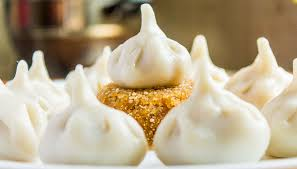modak: (27, 63, 150, 169), (145, 78, 269, 169), (106, 3, 194, 89), (224, 35, 294, 103), (174, 28, 240, 93)
